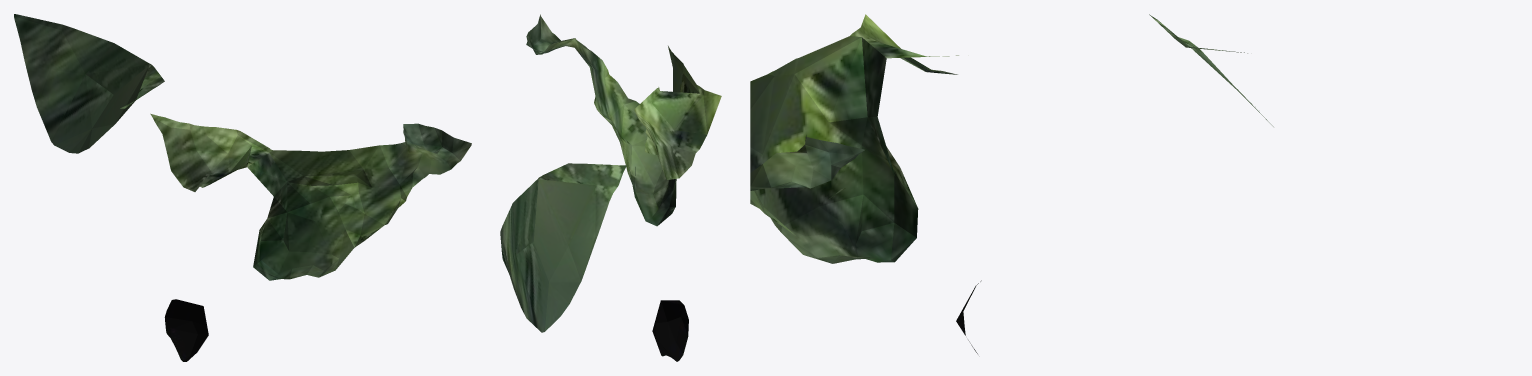
3 views of the same model, side by side, from view 1: azimuth 30°, elevation 25°; view 2: azimuth 150°, elevation 25°; view 3: azimuth 270°, elevation 25° (orthographic). The views are drawn at different scales.
Bounding box in the file's own units: 11.73 × 11.91 × 23.79.
Materials: 1 (1 with a texture image).
